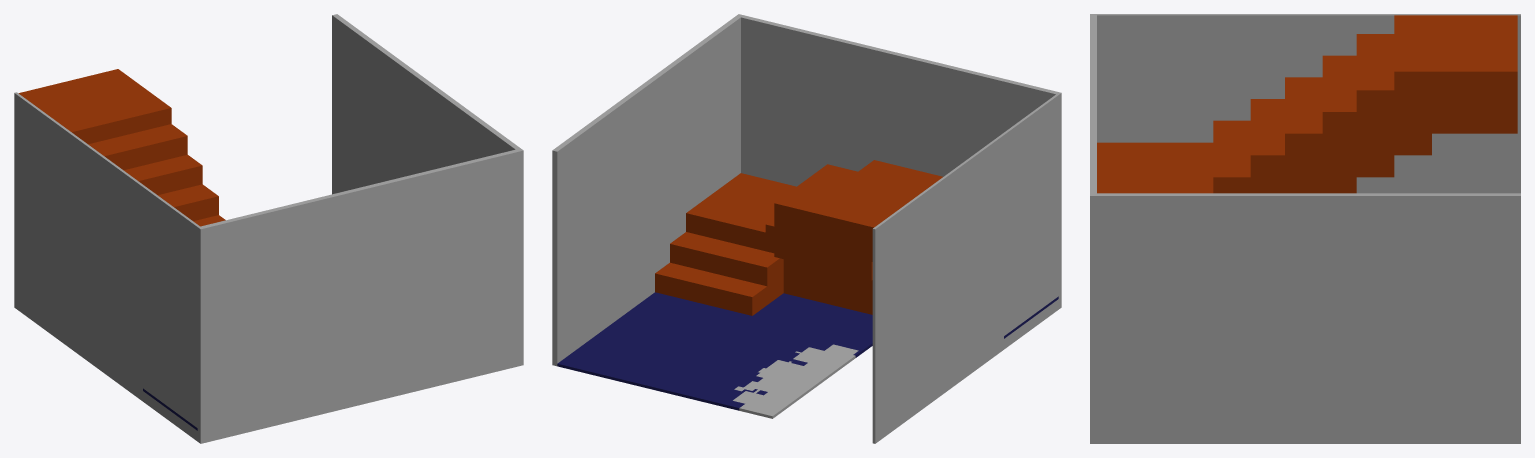
Rendered from 4x2 second (1)-7.obj.
The picture shows the model from 3 angles, left to right: view 1: azimuth 30°, elevation 25°; view 2: azimuth 150°, elevation 25°; view 3: azimuth 270°, elevation 25°; orthographic projection. The views are drawn at different scales.
Parts seen in each view (by area): view 1: 4x2 second (1)-7; view 2: 4x2 second (1)-7; view 3: 4x2 second (1)-7.
Part boxes in pixels (bbox=[...]): 4x2 second (1)-7: bbox=[14, 14, 523, 443]; 4x2 second (1)-7: bbox=[552, 14, 1061, 443]; 4x2 second (1)-7: bbox=[1090, 14, 1520, 443].
Bounding box in the file's own units: 126 × 80 × 126.
1 material, 1 textured.
